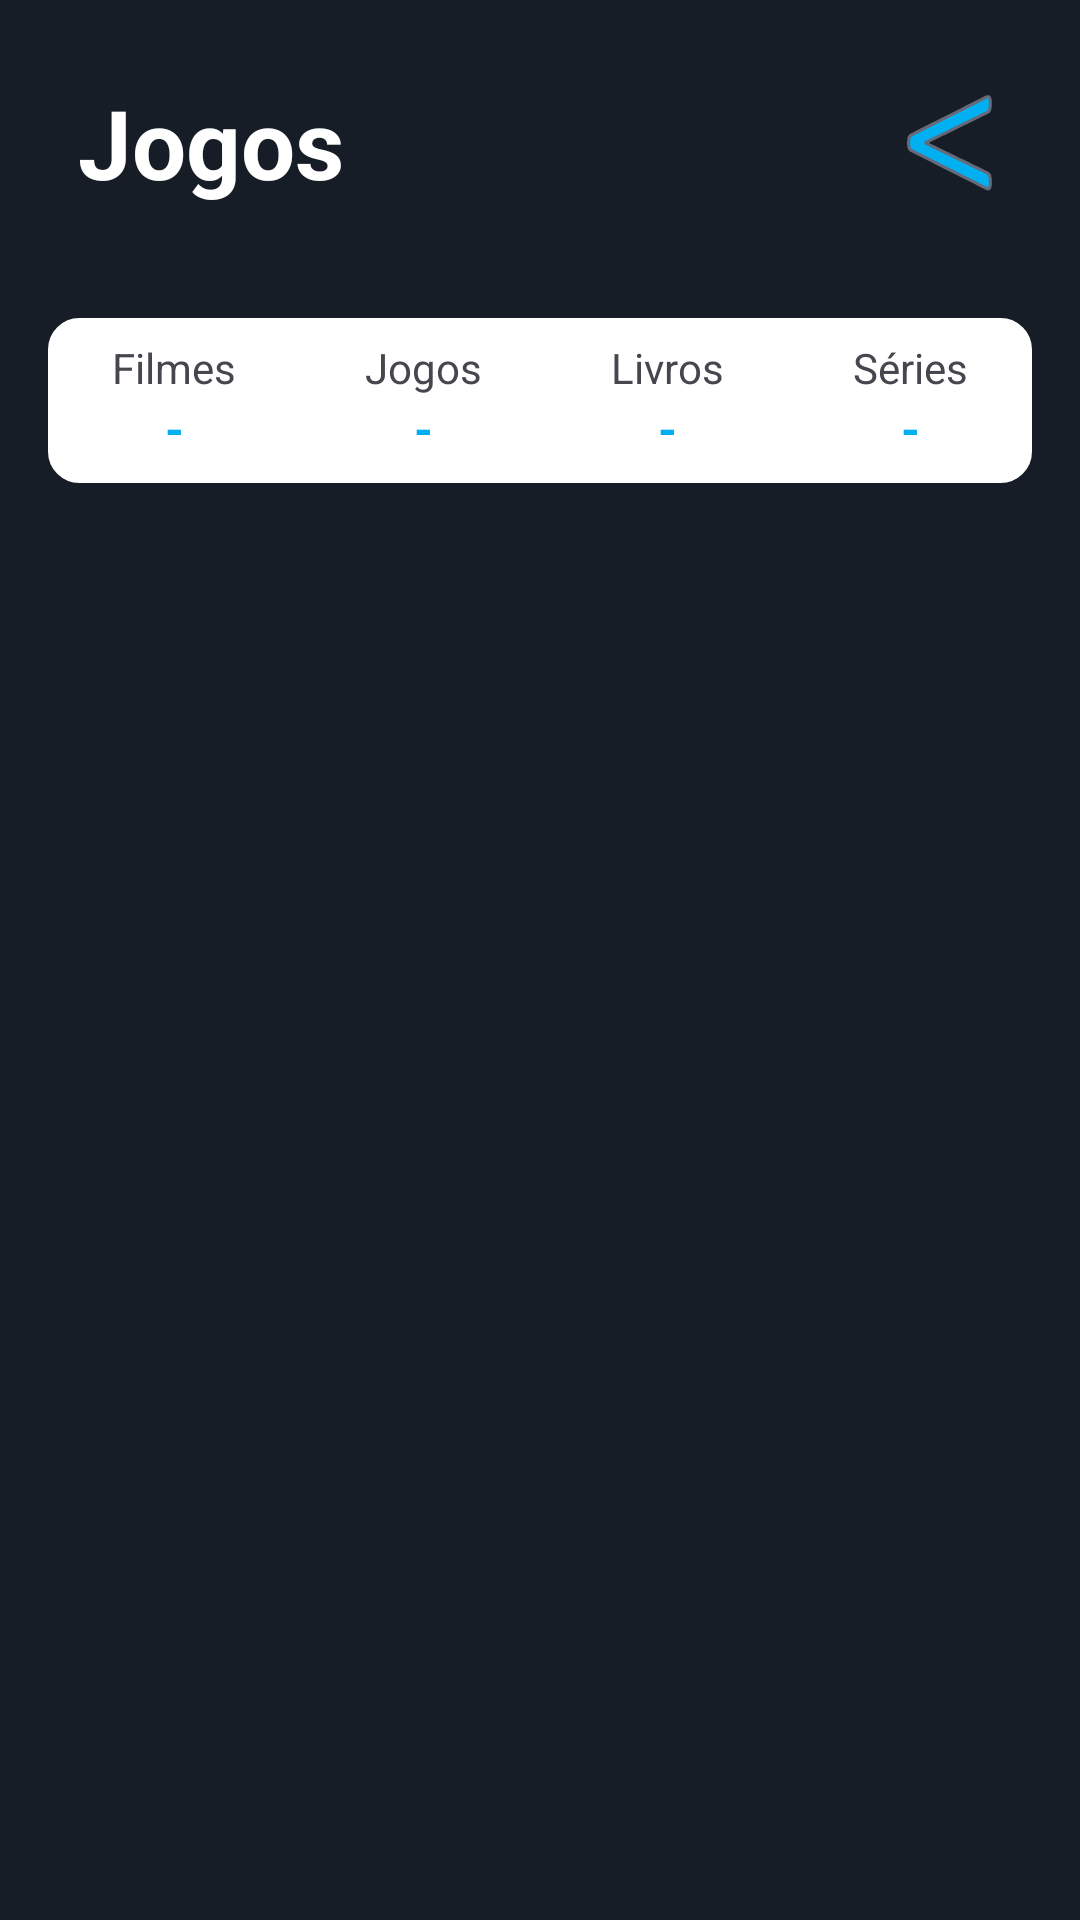

Icon bounding boxes for this 1080x1920 phone screenshot, format box=[x1, y1, x2, y2]:
arrow: box=[907, 95, 992, 191]
